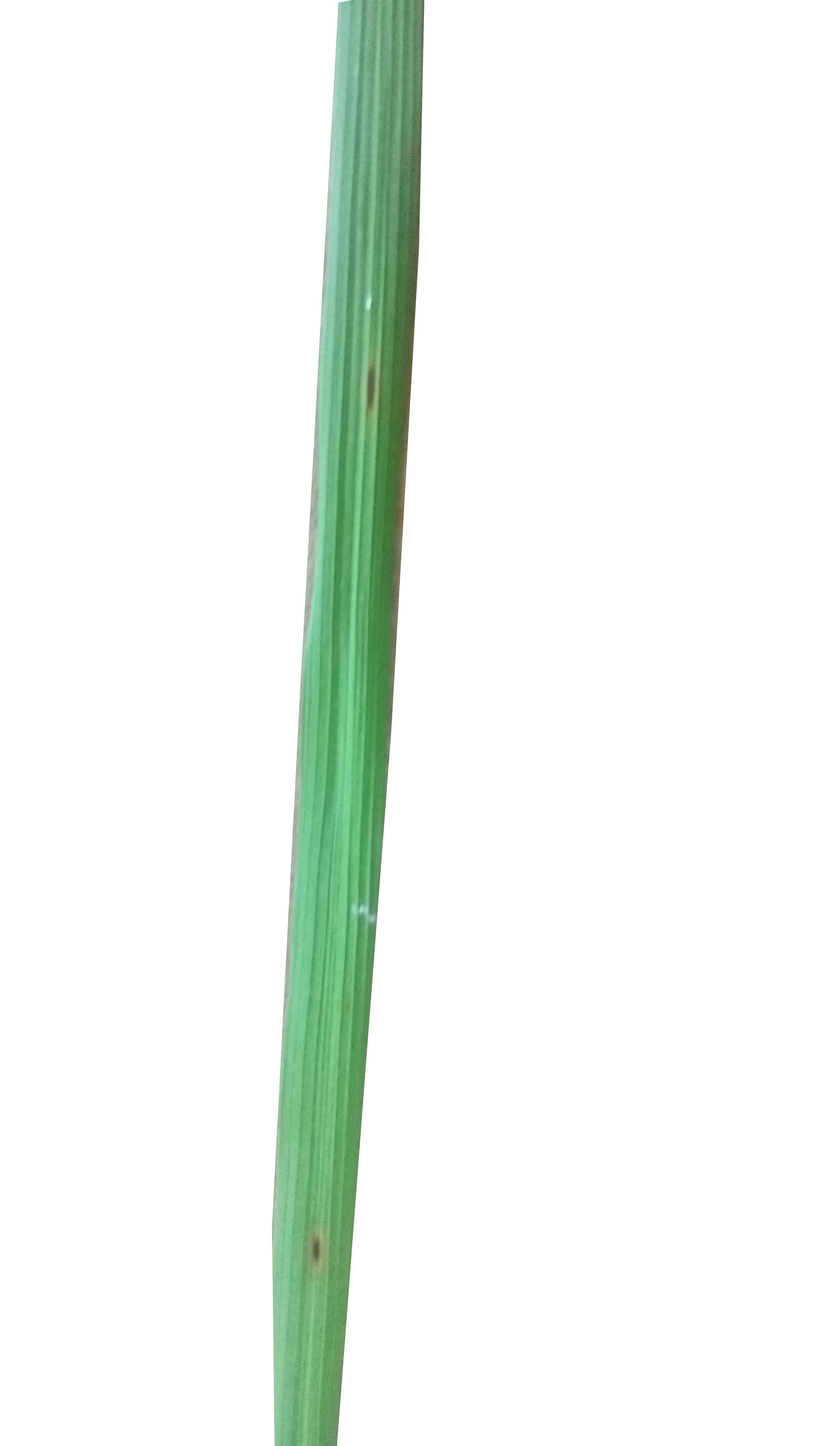Brown spot: (305, 1211, 329, 1295), (362, 344, 383, 422)
